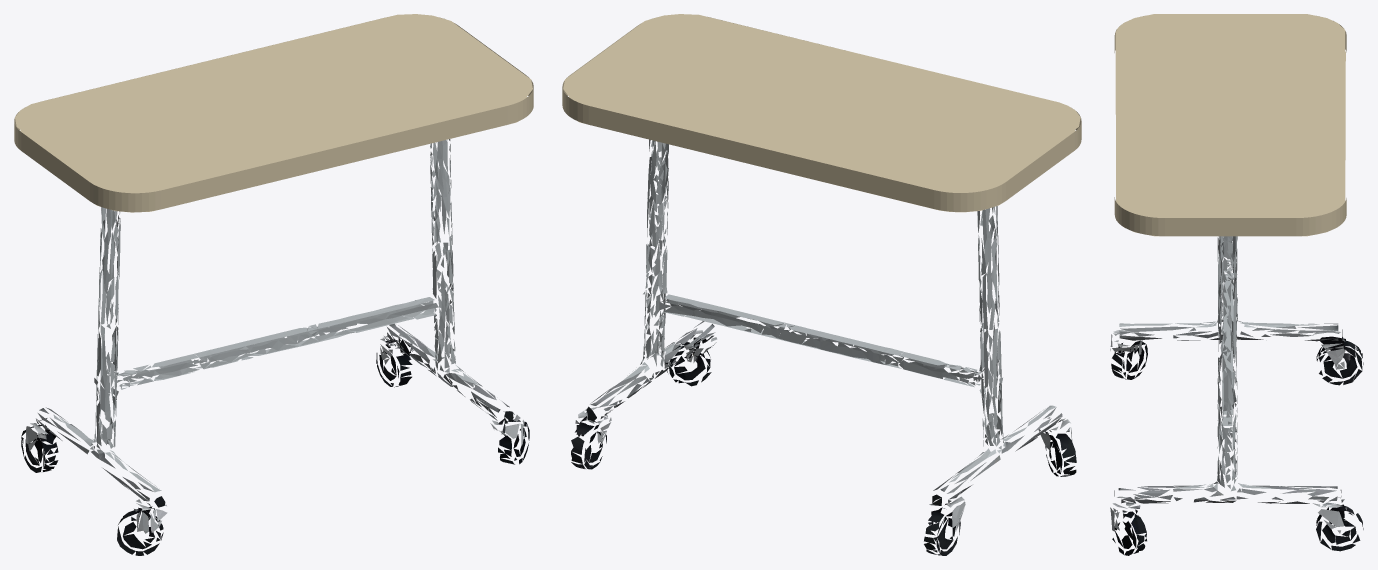
The model's file is lod2_source.glb.
3 renders of one model, left to right at view 1: azimuth 30°, elevation 25°; view 2: azimuth 150°, elevation 25°; view 3: azimuth 270°, elevation 25°, orthographic. The views are drawn at different scales.
Parts seen in each view (by area): view 1: Rounded flat tabletop, geometry_0; view 2: Rounded flat tabletop, geometry_0; view 3: Rounded flat tabletop, geometry_0.
Boxes of the visible parts, x1,y1,x2,y2 form: Rounded flat tabletop: (14, 14, 533, 212); geometry_0: (21, 139, 529, 555); Rounded flat tabletop: (562, 14, 1081, 212); geometry_0: (571, 139, 1076, 555); Rounded flat tabletop: (1114, 14, 1346, 236); geometry_0: (1110, 236, 1363, 555).
Bounding box in the file's own units: 1.25 × 0.9998 × 0.657.
3 materials, 1 textured.
